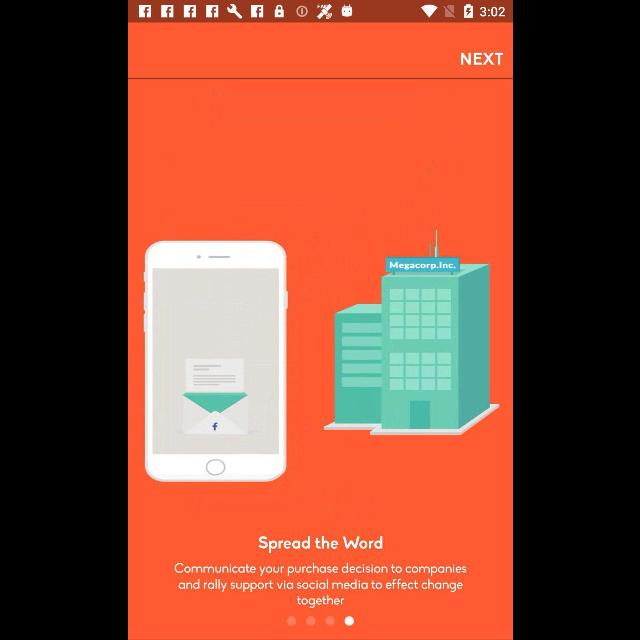image: (323, 229, 499, 435), (142, 240, 288, 482)
pageindicator: (286, 616, 354, 626)
text: (174, 563, 466, 609), (258, 536, 382, 554), (460, 53, 502, 65)
uppertaskbar: (128, 1, 512, 23)
